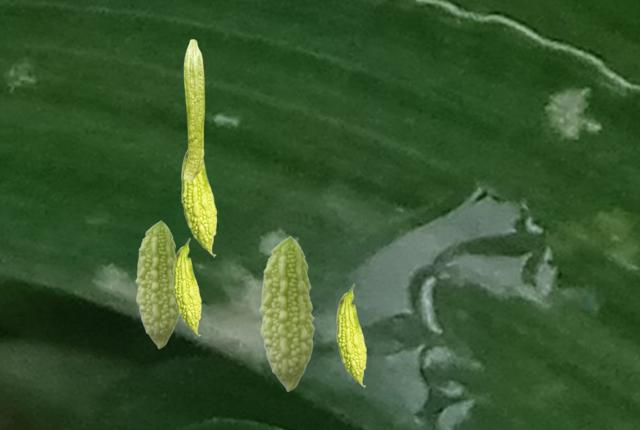ampalaya: (258, 235, 315, 392), (134, 220, 179, 349), (180, 150, 217, 257), (336, 283, 367, 388), (183, 38, 205, 182), (172, 237, 201, 337)
